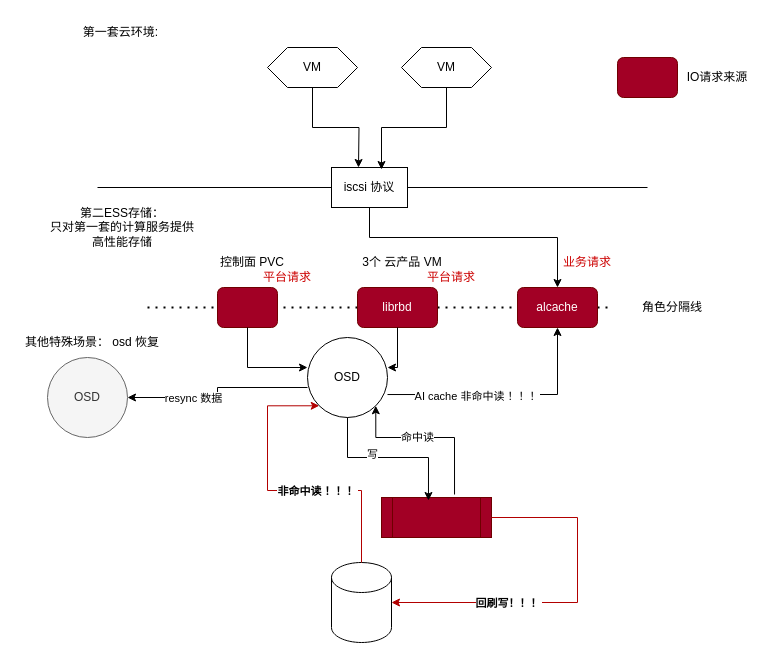
Image size: 774x660. Some labels were removed from this diagram. Each missing label, with the centre of its shape:
"cache disk" goes at [436,517].
"hdd" goes at [361,602].
"krbd" goes at [247,307].
